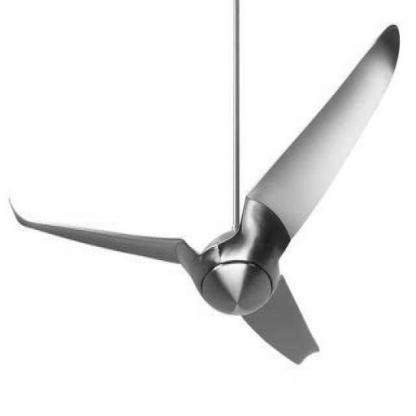ceiling-fan: (7, 22, 400, 366)
